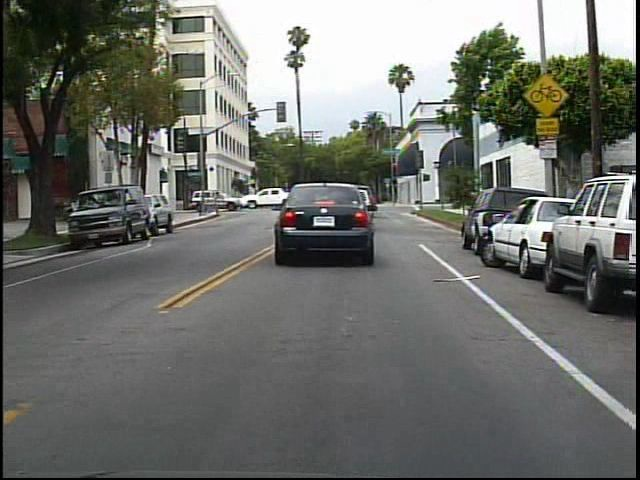person: (210, 188, 228, 218)
